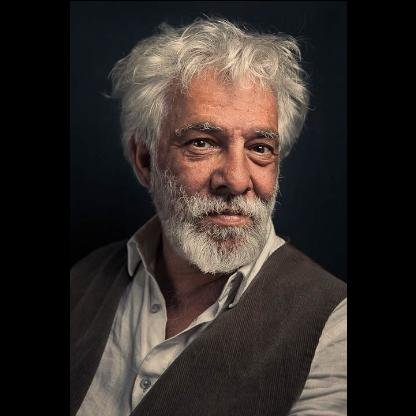Male: (128, 60, 280, 268)
